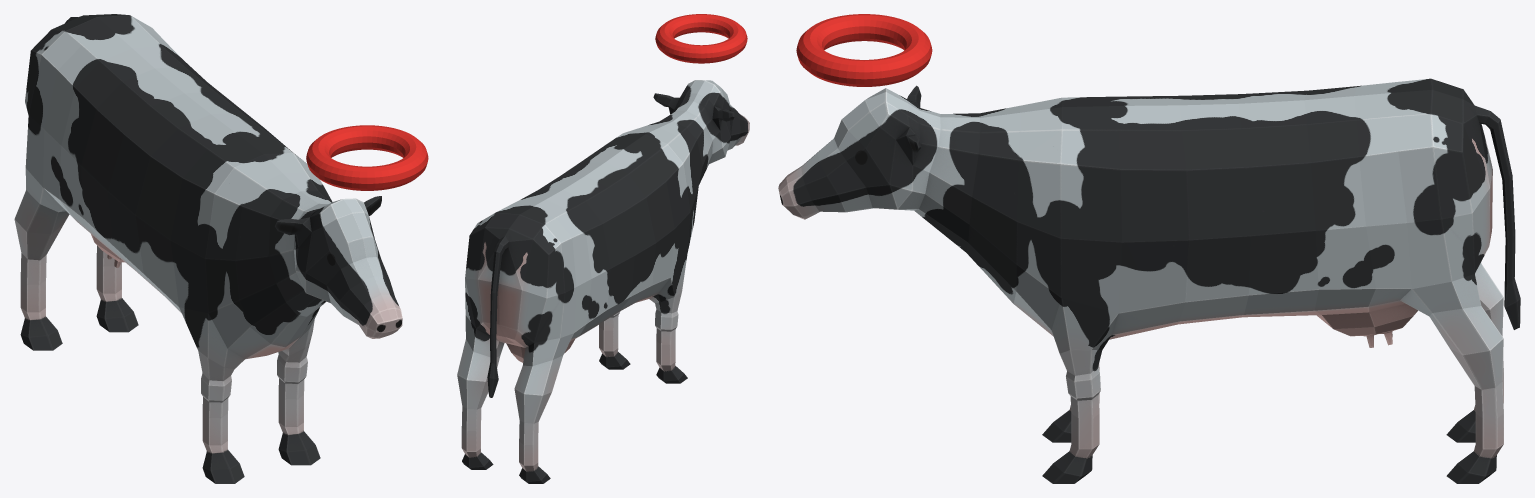
File: unhealthy_in_estrus.gltf
3 views of the same model, side by side, from view 1: azimuth 30°, elevation 25°; view 2: azimuth 150°, elevation 25°; view 3: azimuth 270°, elevation 25° (orthographic). The views are drawn at different scales.
Visible parts, largest first — view 1: Cow_mesh, Torus; view 2: Cow_mesh, Torus; view 3: Cow_mesh, Torus.
Boxes of the visible parts, x1=… form: Cow_mesh: x1=14, y1=14, x2=402, y2=483; Torus: x1=306, y1=125, x2=428, y2=190; Cow_mesh: x1=457, y1=80, x2=749, y2=483; Torus: x1=655, y1=14, x2=747, y2=63; Cow_mesh: x1=778, y1=78, x2=1520, y2=483; Torus: x1=796, y1=14, x2=932, y2=86.
Bounding box in the file's own units: 3.36 × 8.63 × 13.65.
Materials: 2 (1 with a texture image).
